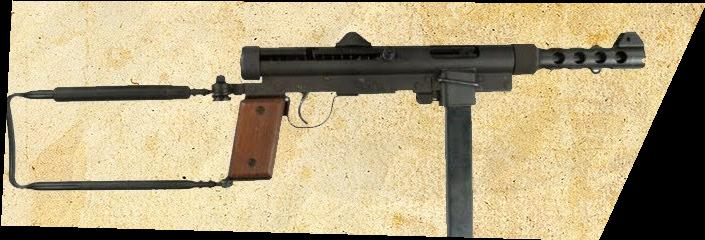gun: (1, 0, 705, 240)
